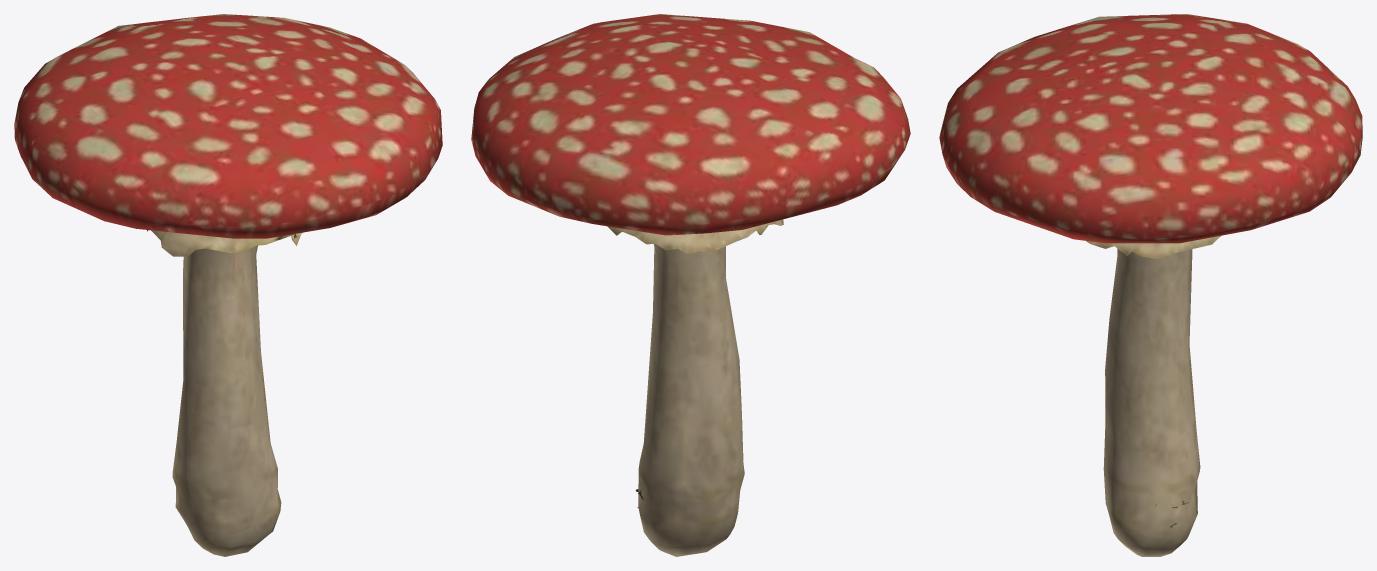
The picture shows the model from 3 angles, left to right: view 1: azimuth 30°, elevation 25°; view 2: azimuth 150°, elevation 25°; view 3: azimuth 270°, elevation 25°; orthographic projection.
Parts seen in each view (by area): view 1: pilz2_m0, pilz2_m1, pilz2_m2; view 2: pilz2_m0, pilz2_m1, pilz2_m2; view 3: pilz2_m0, pilz2_m1, pilz2_m2.
Boxes of the visible parts, <box> form: pilz2_m0: <box>14,14,442,238</box>; pilz2_m1: <box>172,245,281,556</box>; pilz2_m2: <box>147,230,303,256</box>; pilz2_m0: <box>471,14,910,235</box>; pilz2_m1: <box>638,243,744,556</box>; pilz2_m2: <box>607,219,783,254</box>; pilz2_m0: <box>939,14,1362,243</box>; pilz2_m1: <box>1103,248,1200,556</box>; pilz2_m2: <box>1086,235,1221,258</box>.
Size of the model in its own units: 102 by 127 by 100.
Materials: 61 (61 with a texture image).
